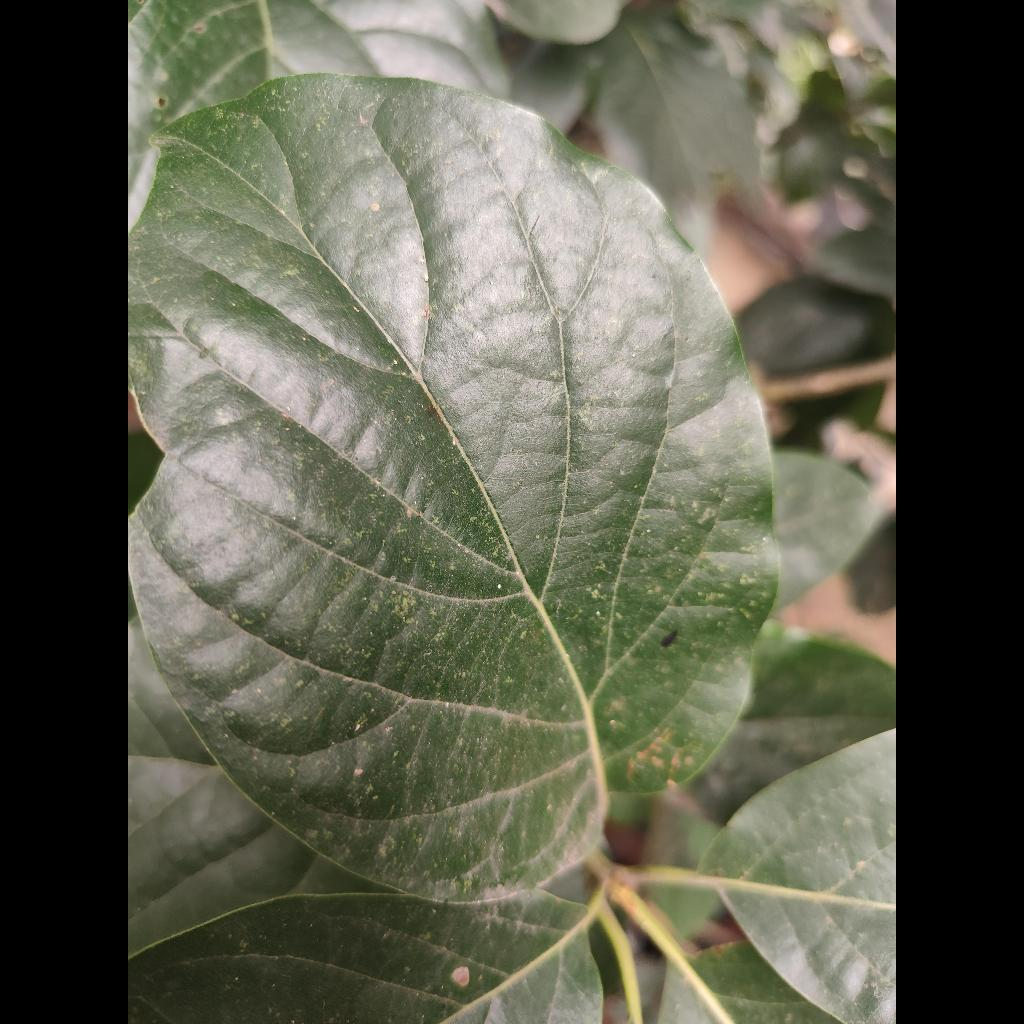Anthracnose: (128, 75, 774, 902)
